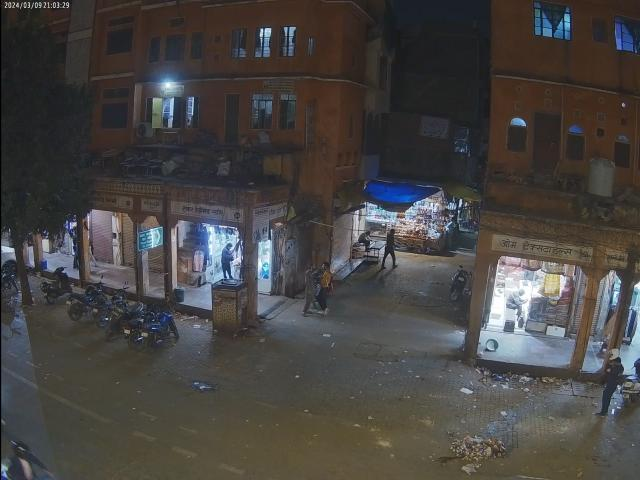motorbike: (145, 301, 181, 350), (70, 277, 106, 323), (91, 284, 125, 328), (126, 304, 161, 346)
person: (599, 352, 623, 420), (381, 230, 400, 270), (304, 263, 318, 317), (318, 262, 332, 316), (506, 288, 526, 320), (220, 243, 234, 280)
scooty: (105, 295, 142, 338), (40, 266, 71, 302), (448, 266, 472, 306)
